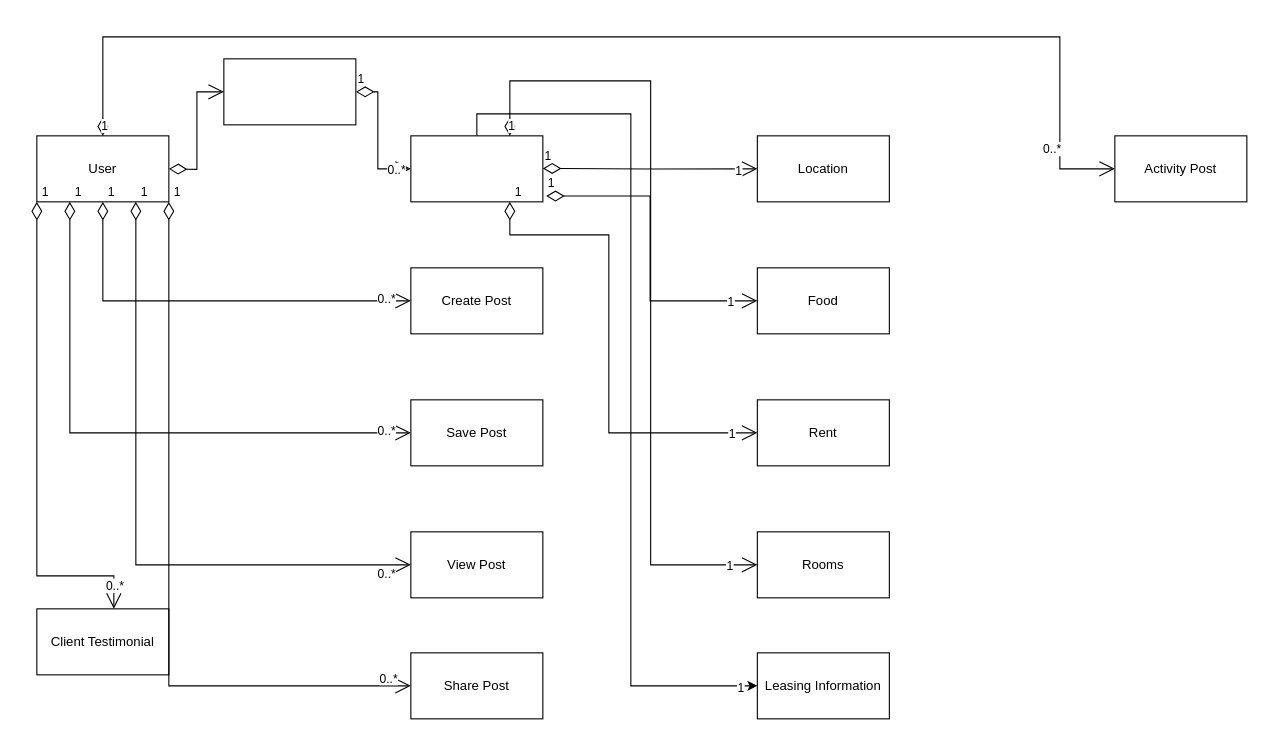
Image size: 1266x738. Some labels were removed from this diagram. Each missing label, with the box of its shape:
Filtering Post: (223, 58, 356, 125)
Housing Post: (410, 135, 543, 202)
